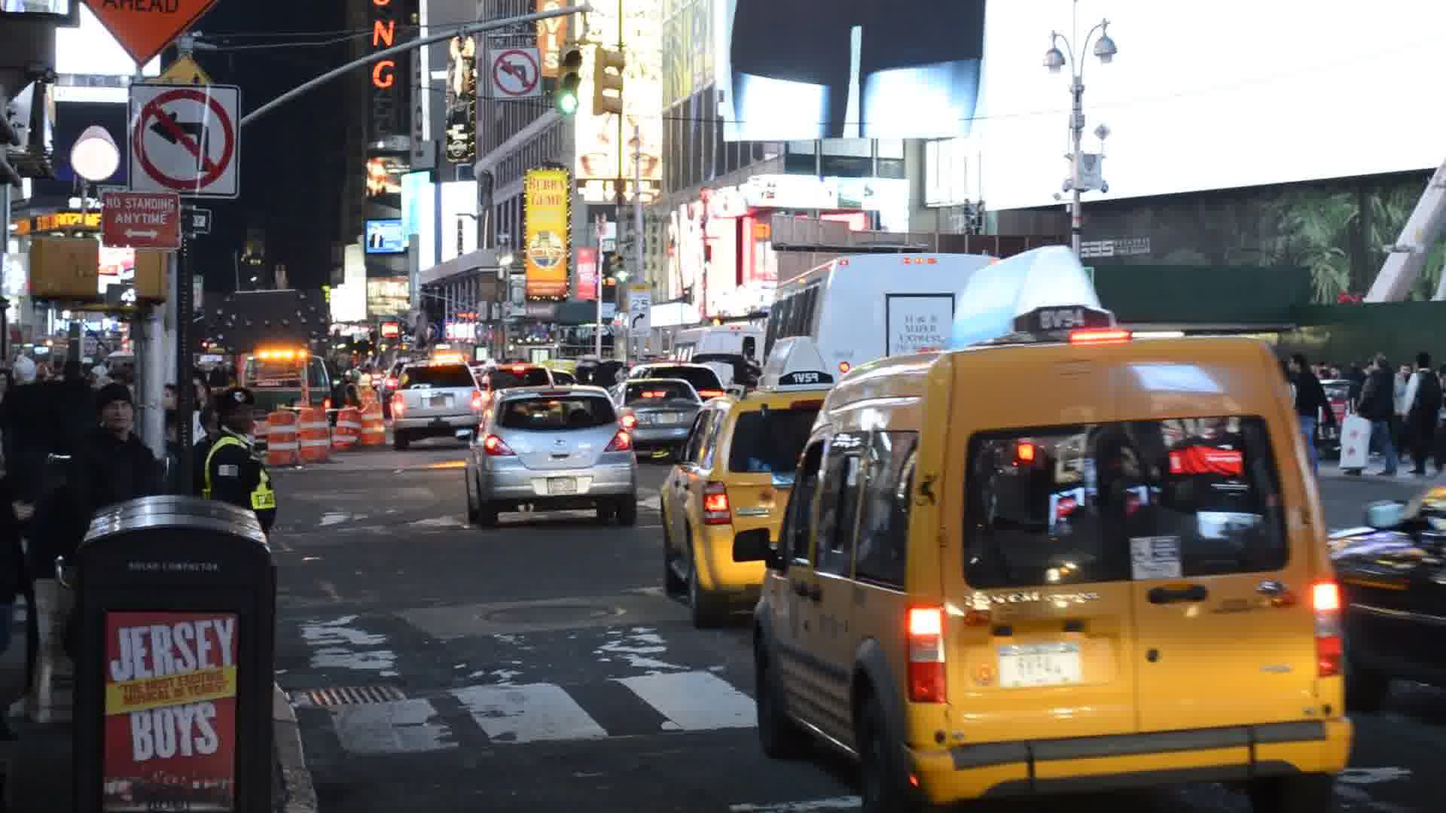car: (736, 322, 1344, 806), (665, 382, 808, 620), (470, 386, 659, 518)
